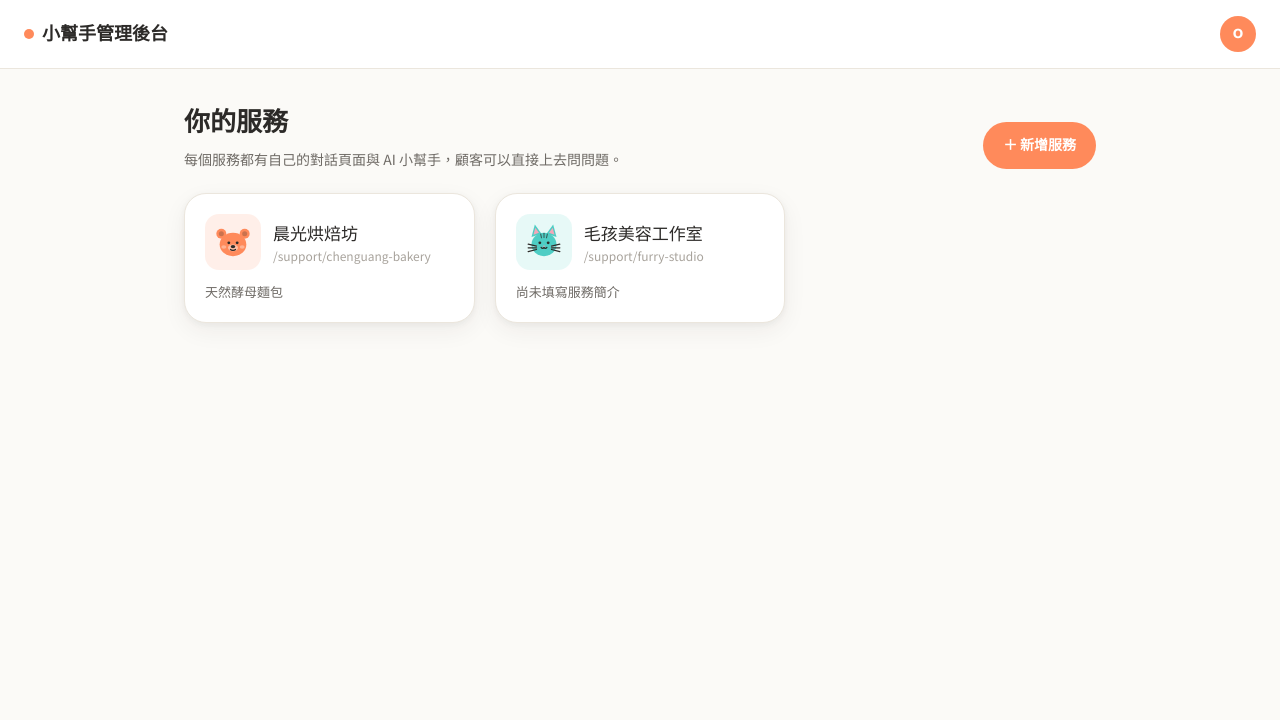
console: owner settings against the backend API › list › shows nothing owned by a previous login after logging out and in as someone else
Check: the heading "你的服務" is shown, box 184,103 -> 288,145
Check: the text "晨光烘焙坊" is shown, box 273,220 -> 358,245
Click the button named "帳號選單". click: {"x": 1238, "y": 34}
box: 1220,16 -> 1256,52
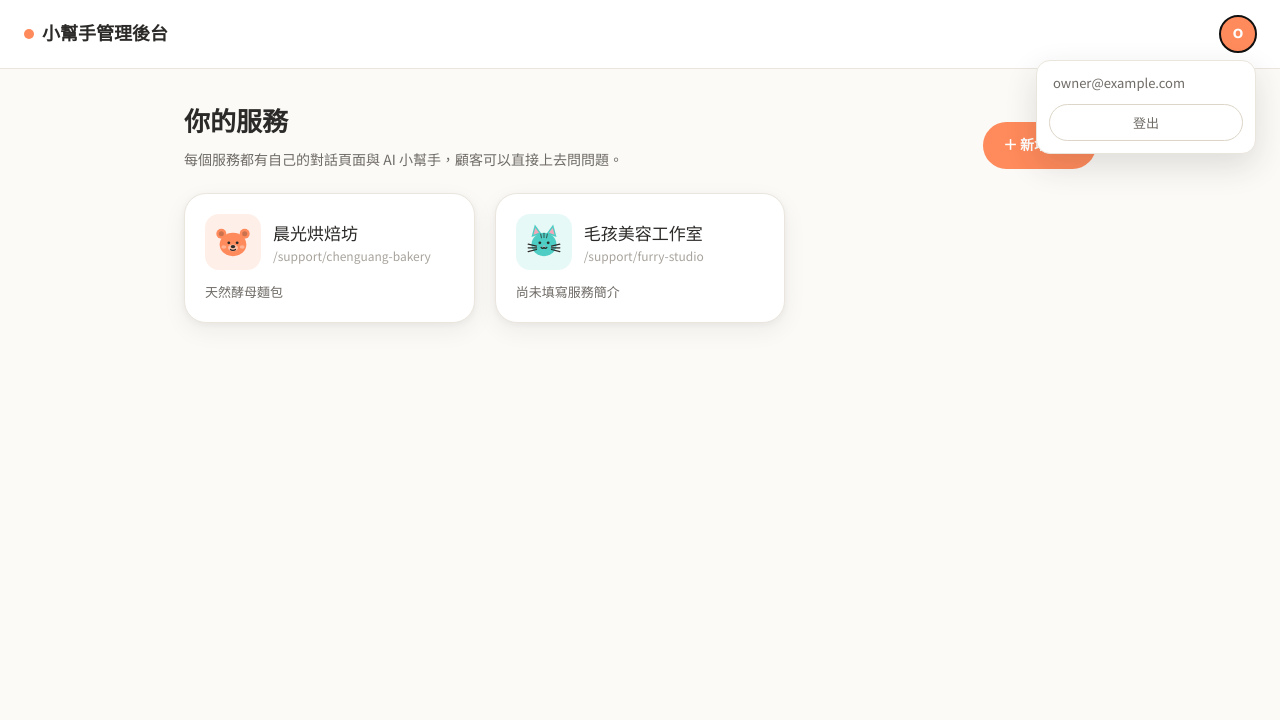
Click the menu item "登出". click: {"x": 1146, "y": 122}
box: 1049,104 -> 1243,141
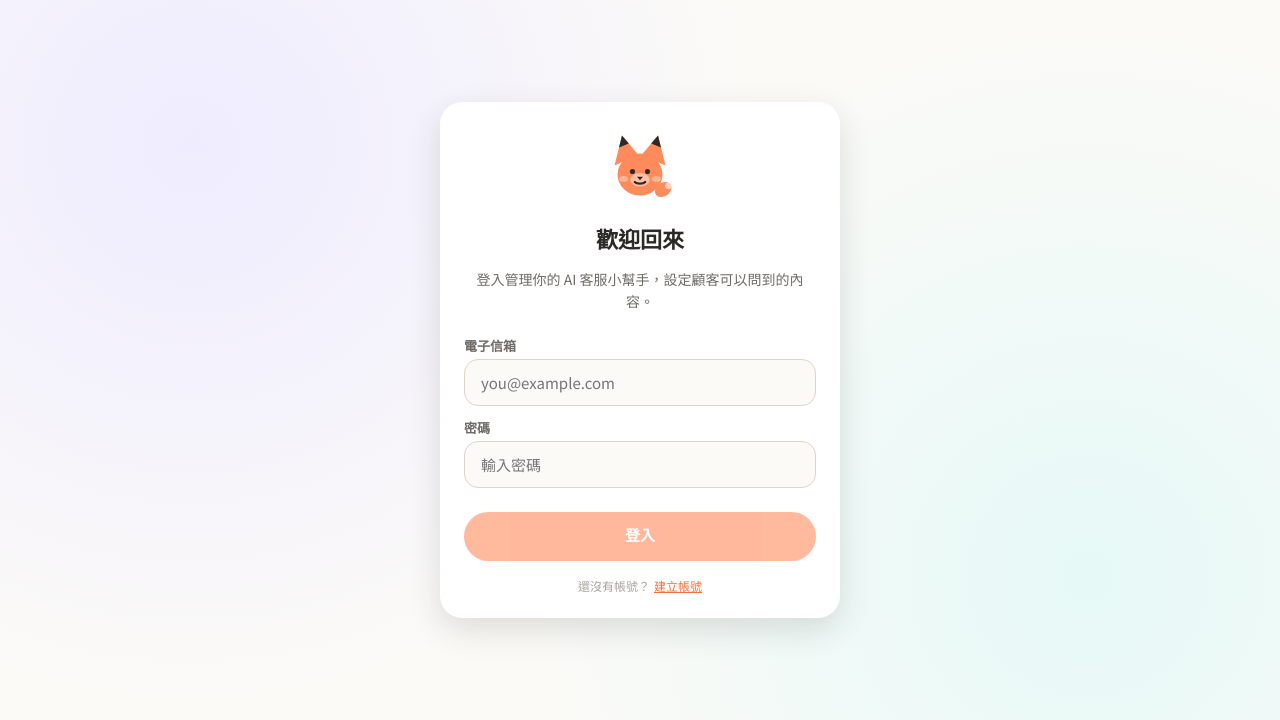
Check: the password field labelled "密碼" is shown, box 464,441 -> 816,488
Type "other@example.com" into the field labelled "電子信箱". click: {"x": 640, "y": 383}
box: 464,359 -> 816,406
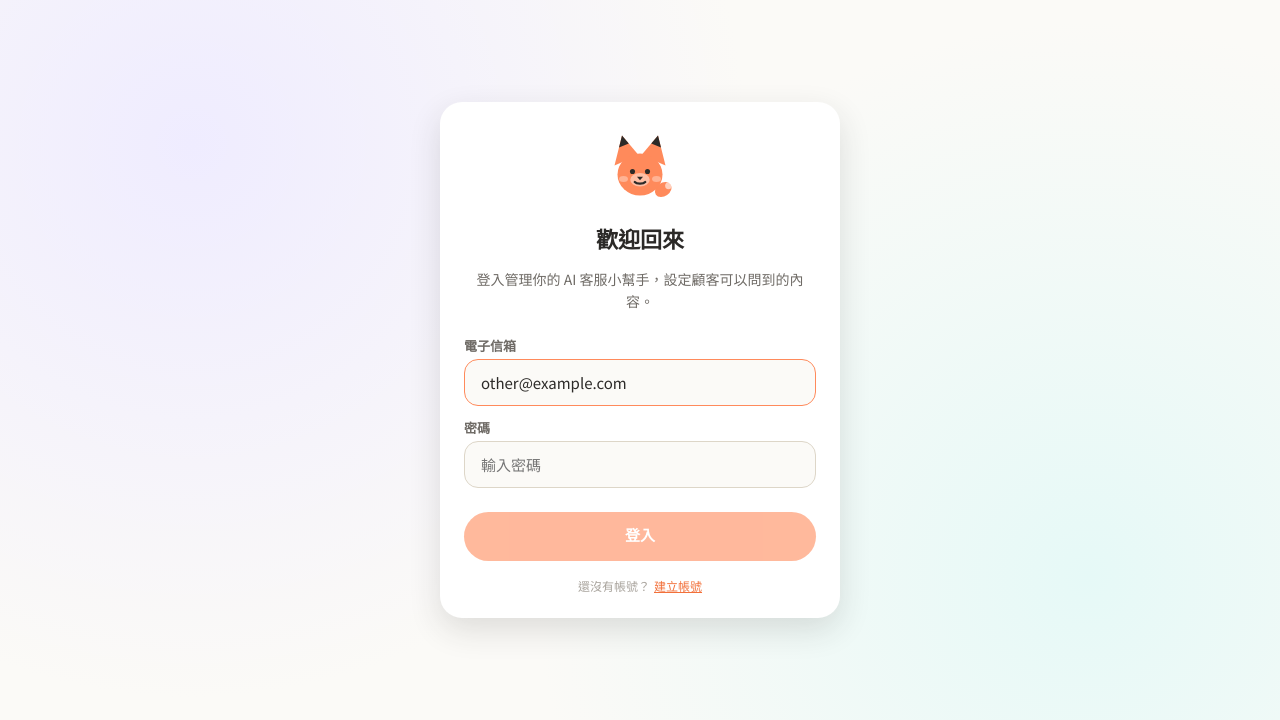
Type "password123" into the password field labelled "密碼". click: {"x": 640, "y": 465}
box: 464,441 -> 816,488
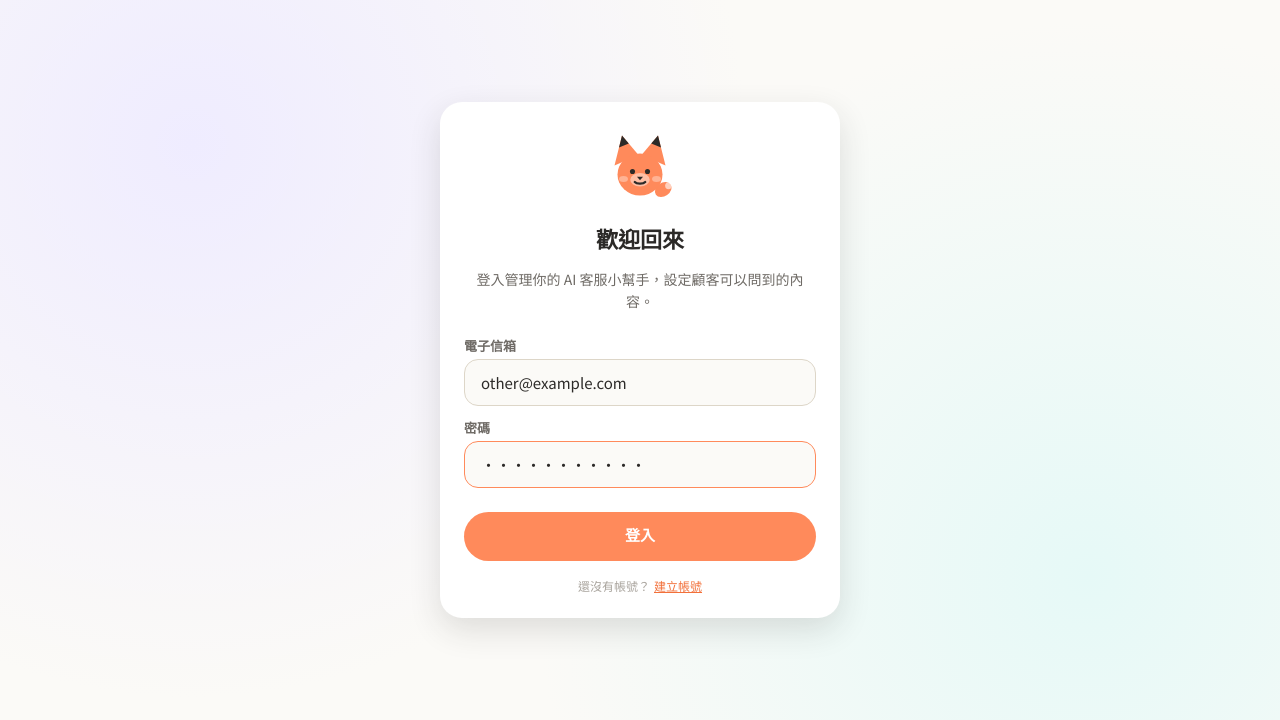
Click the button "登入". click: {"x": 640, "y": 537}
box: 464,512 -> 816,561
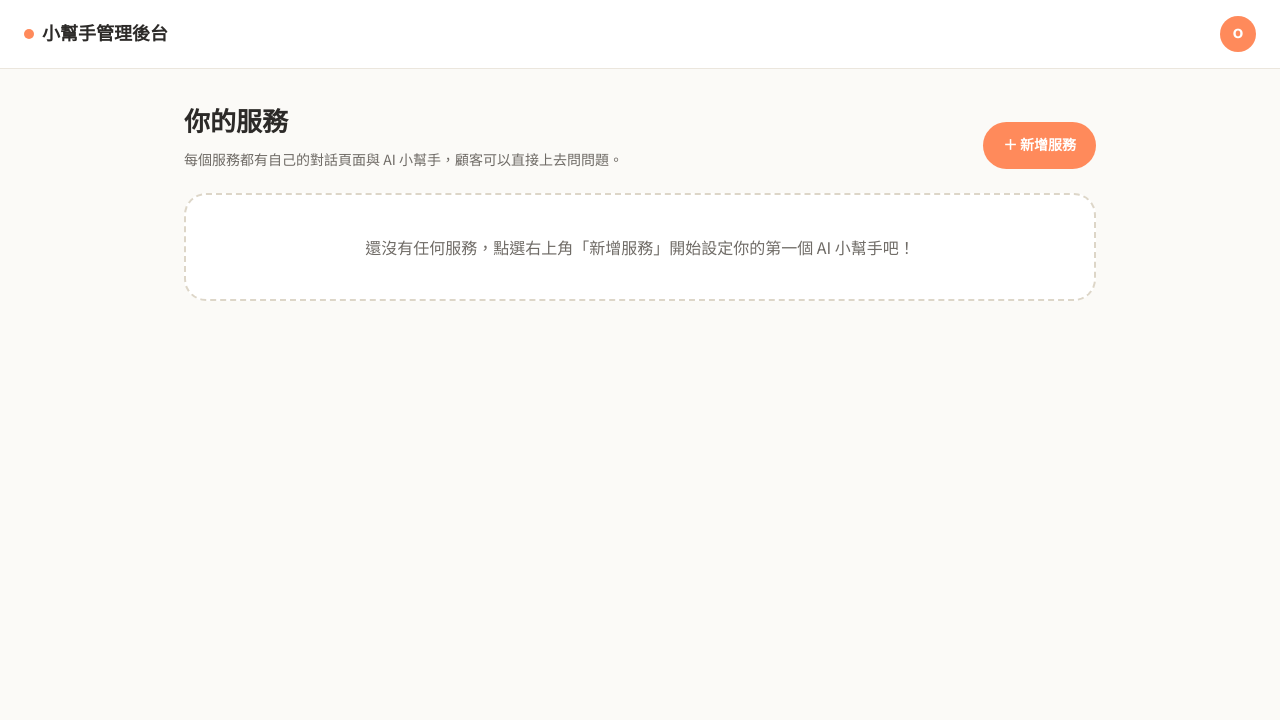
Check: the button "晨光烘焙坊" is not shown
Check: the text "還沒有任何服務，點選右上角「新增服務」開始設定你的第一個 AI 小幫手吧！" is shown, box 184,193 -> 1096,301
